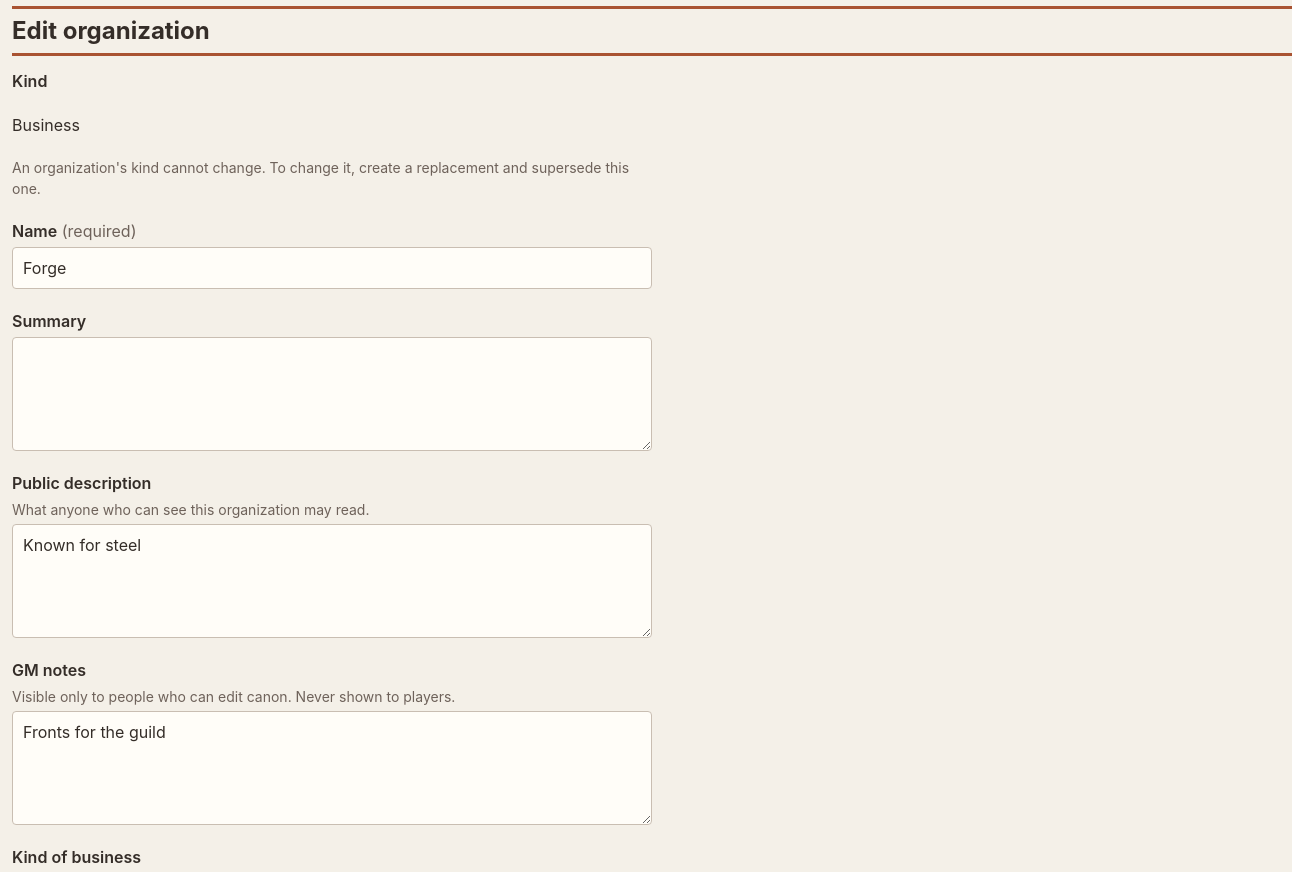
EditOrganizationPage › recovers from a stale write and keeps the user's values
Replace the text in the field labelled "Name (required)" with "My rename": (332, 268) [12,247,652,289]
(page scrolled)
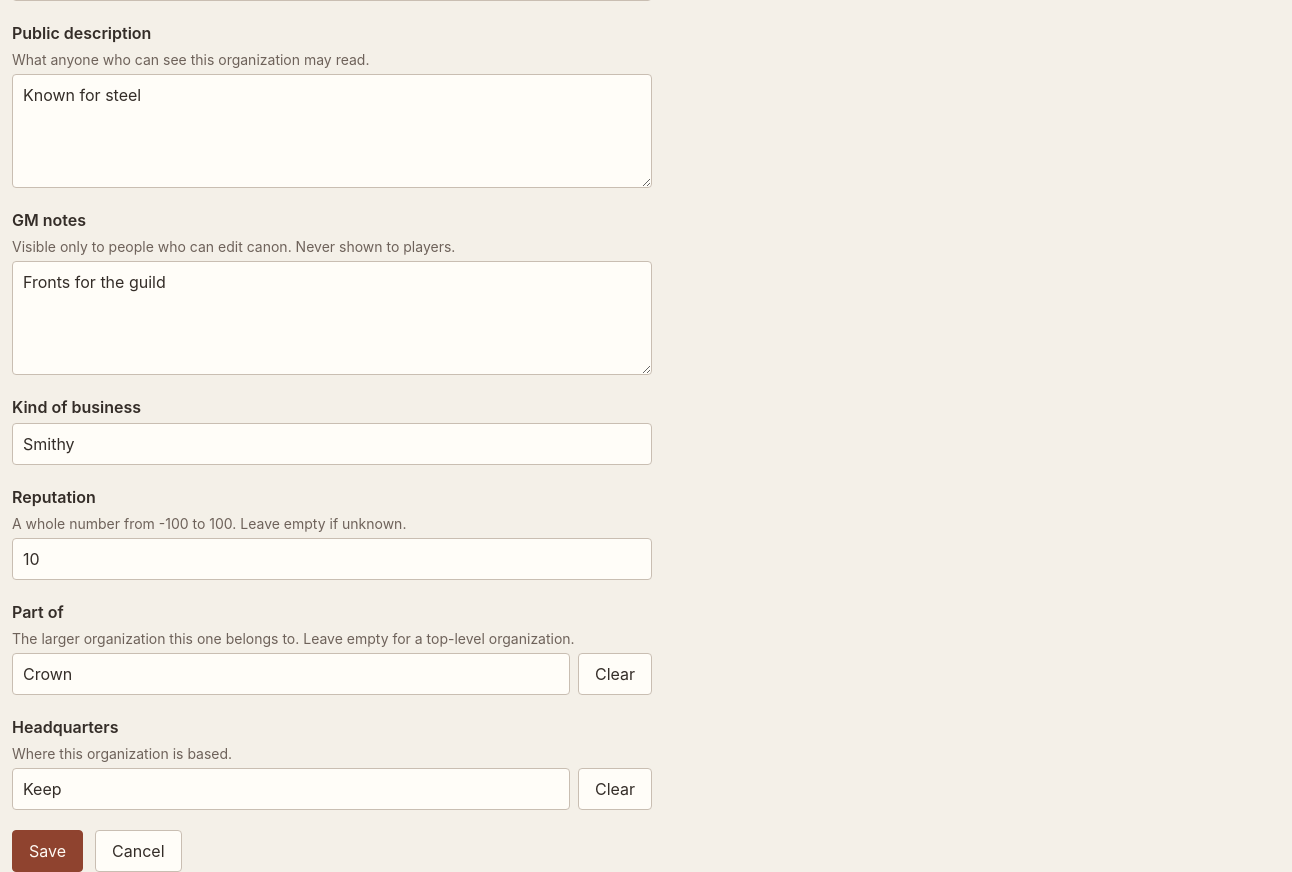
Click the button "Save": (48, 851) [12,830,83,871]
(page scrolled)
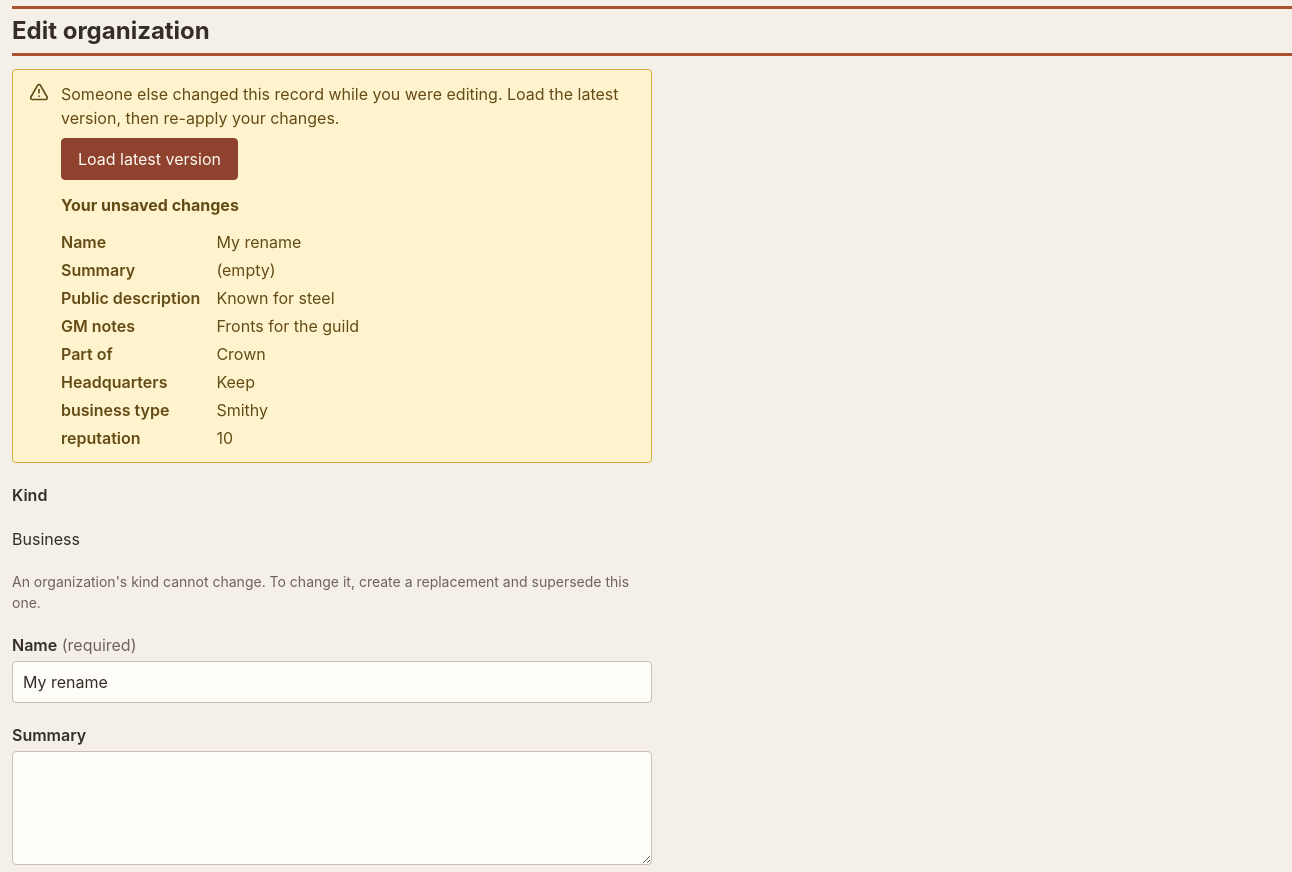
Expected: the message shows "Someone else changed this record", [61,84,618,128]
Click the button "Load latest version": (149, 159) [61,138,238,180]
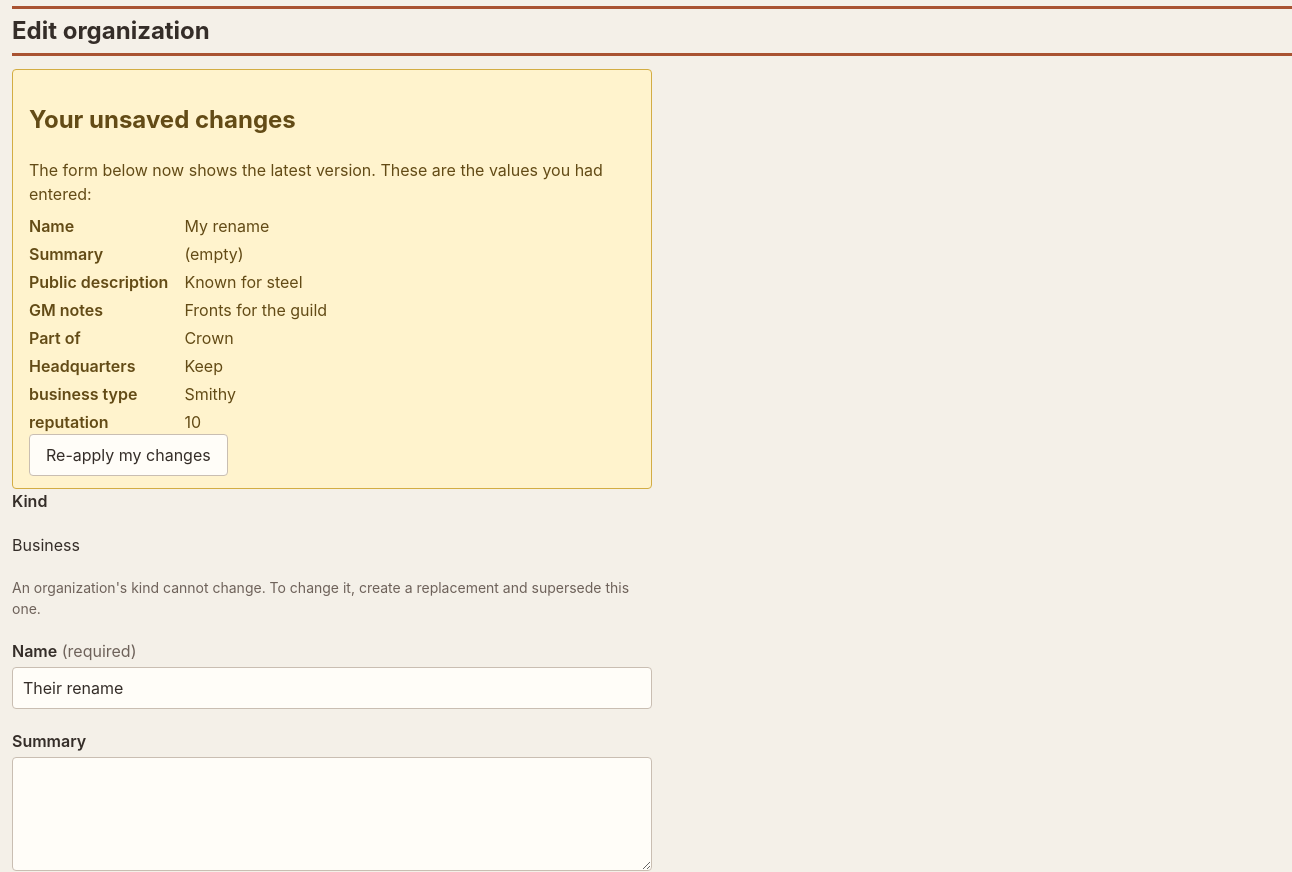
Expected: the field labelled "Name (required)" holds "Their rename", [12,667,652,709]
Expected: the element "Your unsaved changes" shows "My rename", [184,216,269,236]
Click the button "Re-apply my changes": (128, 455) [29,434,228,476]
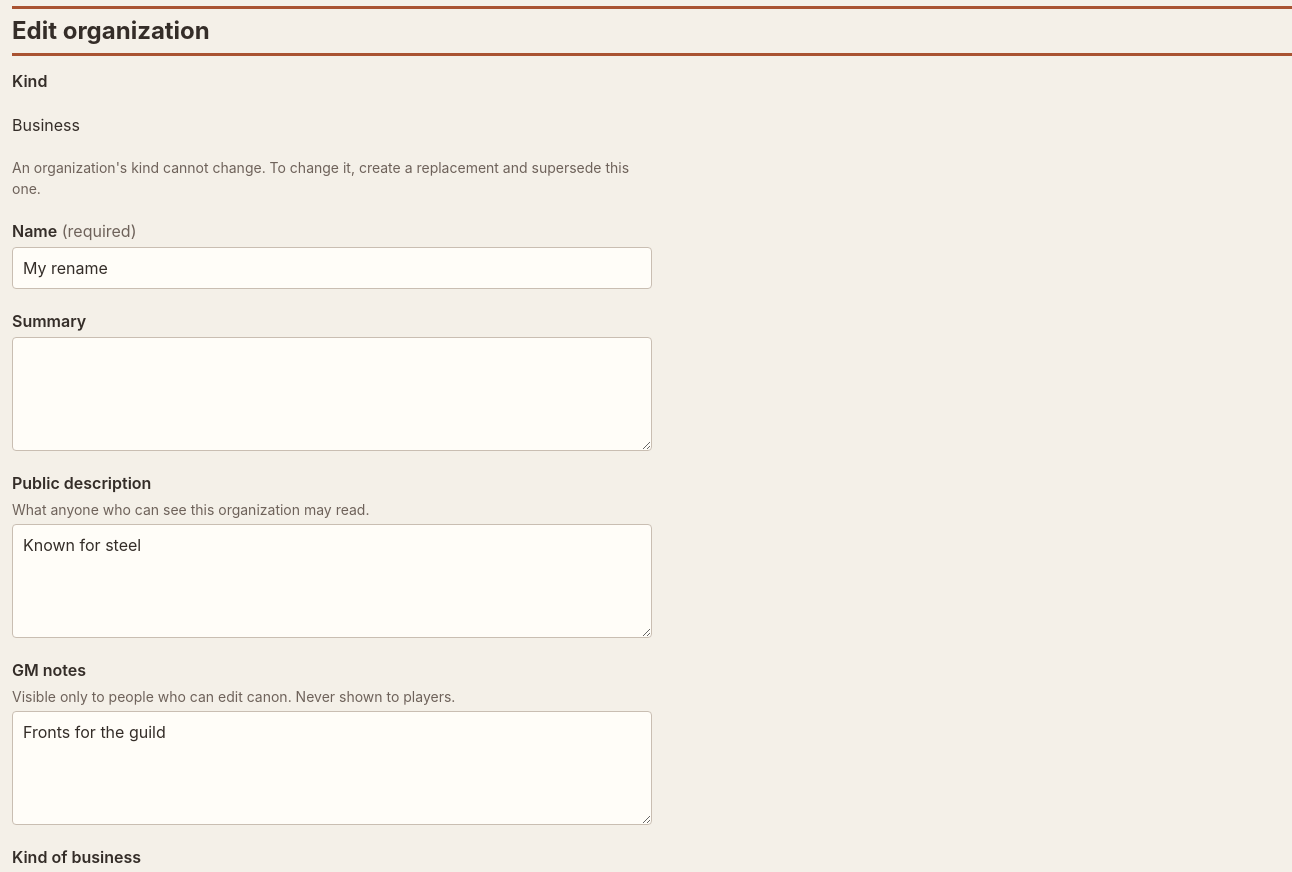
Expected: the field labelled "Name (required)" holds "My rename", [12,247,652,289]
